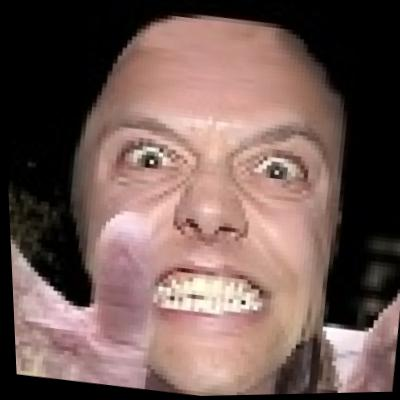angry: (58, 9, 369, 399)
